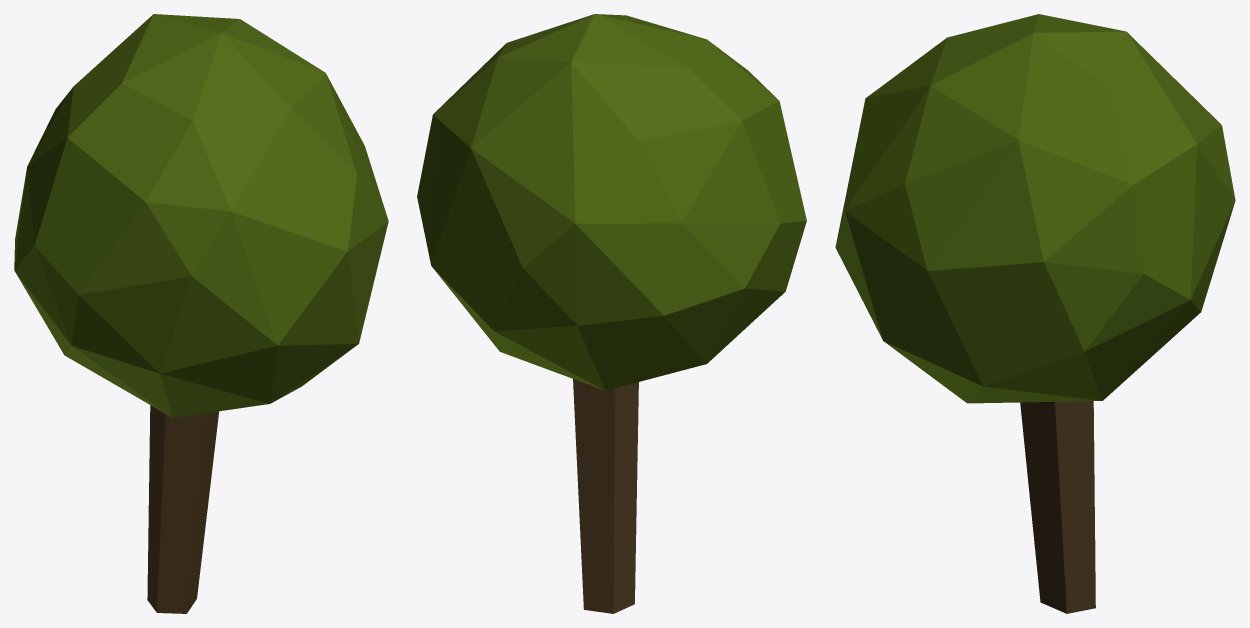
Rendered from TreesAndBushes_033.fbx.
The picture shows the model from 3 angles, left to right: view 1: azimuth 30°, elevation 25°; view 2: azimuth 150°, elevation 25°; view 3: azimuth 270°, elevation 25°; orthographic projection. The views are drawn at different scales.
Visible parts, largest first — view 1: TreesAndBushes_033; view 2: TreesAndBushes_033; view 3: TreesAndBushes_033.
Boxes of the visible parts, <box> form: TreesAndBushes_033: <box>14,14,388,613</box>; TreesAndBushes_033: <box>417,14,806,613</box>; TreesAndBushes_033: <box>835,14,1235,613</box>.
Size of the model in its own units: 25.45 by 41.7 by 25.84.
